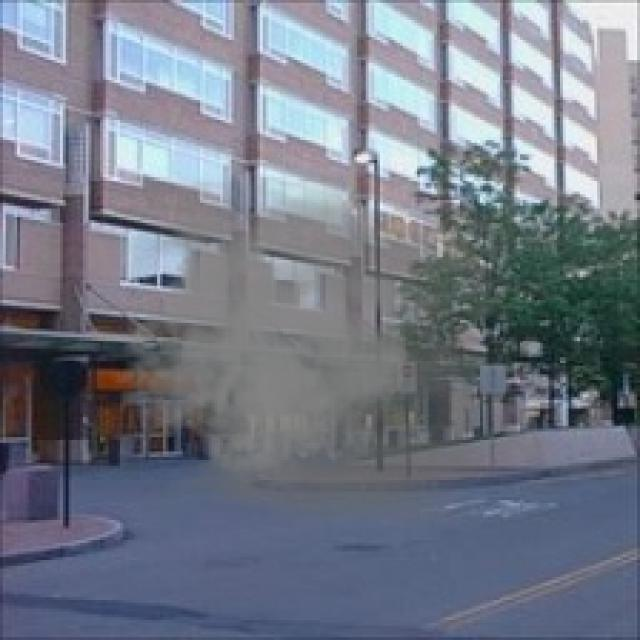smoke: (114, 177, 512, 529)
